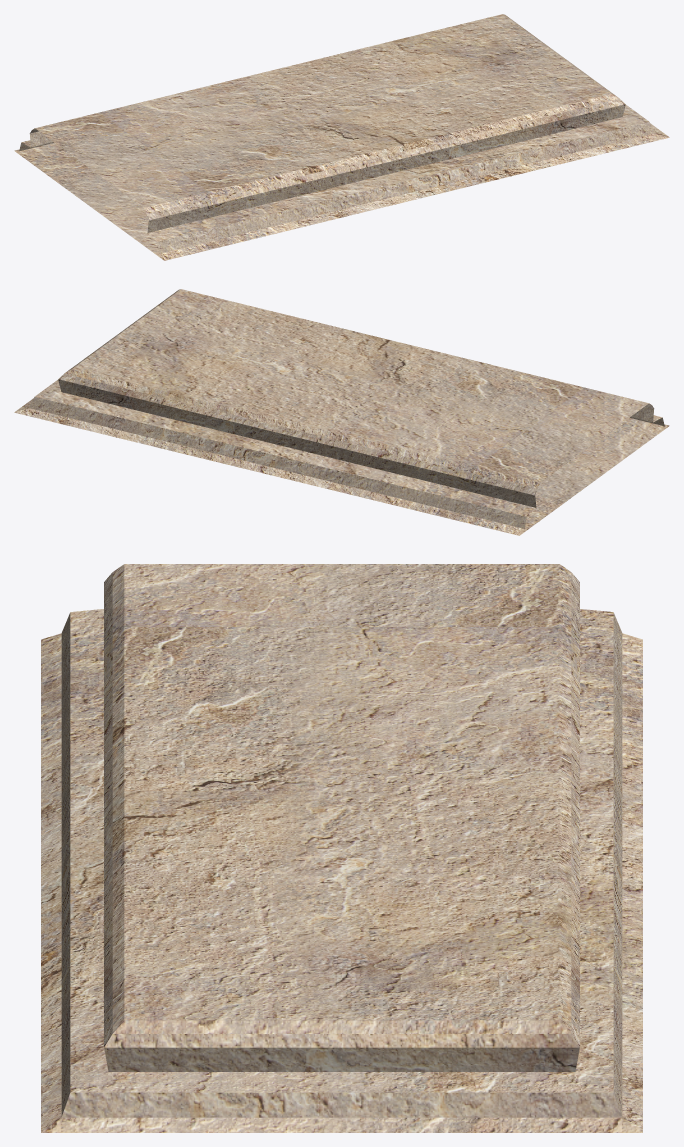
File: Bridge.fbx
The picture shows the model from 3 angles, top to bottom: view 1: azimuth 30°, elevation 25°; view 2: azimuth 150°, elevation 25°; view 3: azimuth 270°, elevation 25°; orthographic projection. The views are drawn at different scales.
Parts seen in each view (by area): view 1: Bridge; view 2: Bridge; view 3: Bridge.
Boxes of the visible parts, x1,y1,x2,y2 form: Bridge: [14, 14, 669, 260]; Bridge: [14, 289, 669, 535]; Bridge: [41, 564, 642, 1132].
Bounding box in the file's own units: 26.52 × 1.89 × 13.68.
